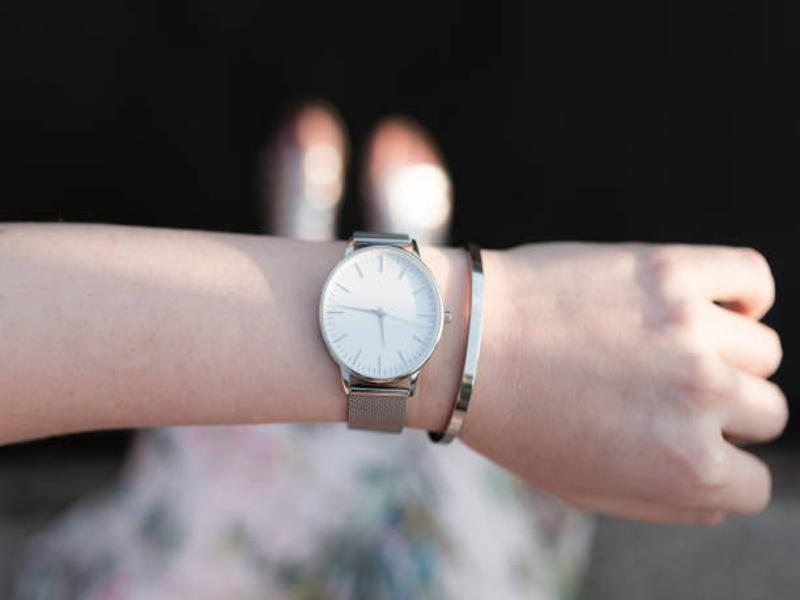watch: (316, 219, 454, 442)
